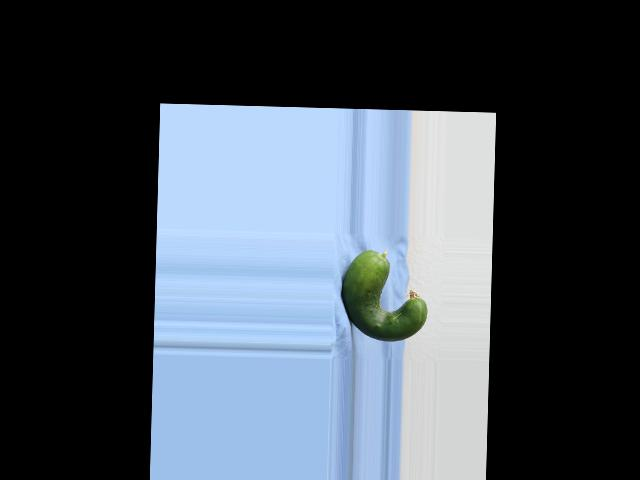cucumber: (340, 249, 428, 342)
